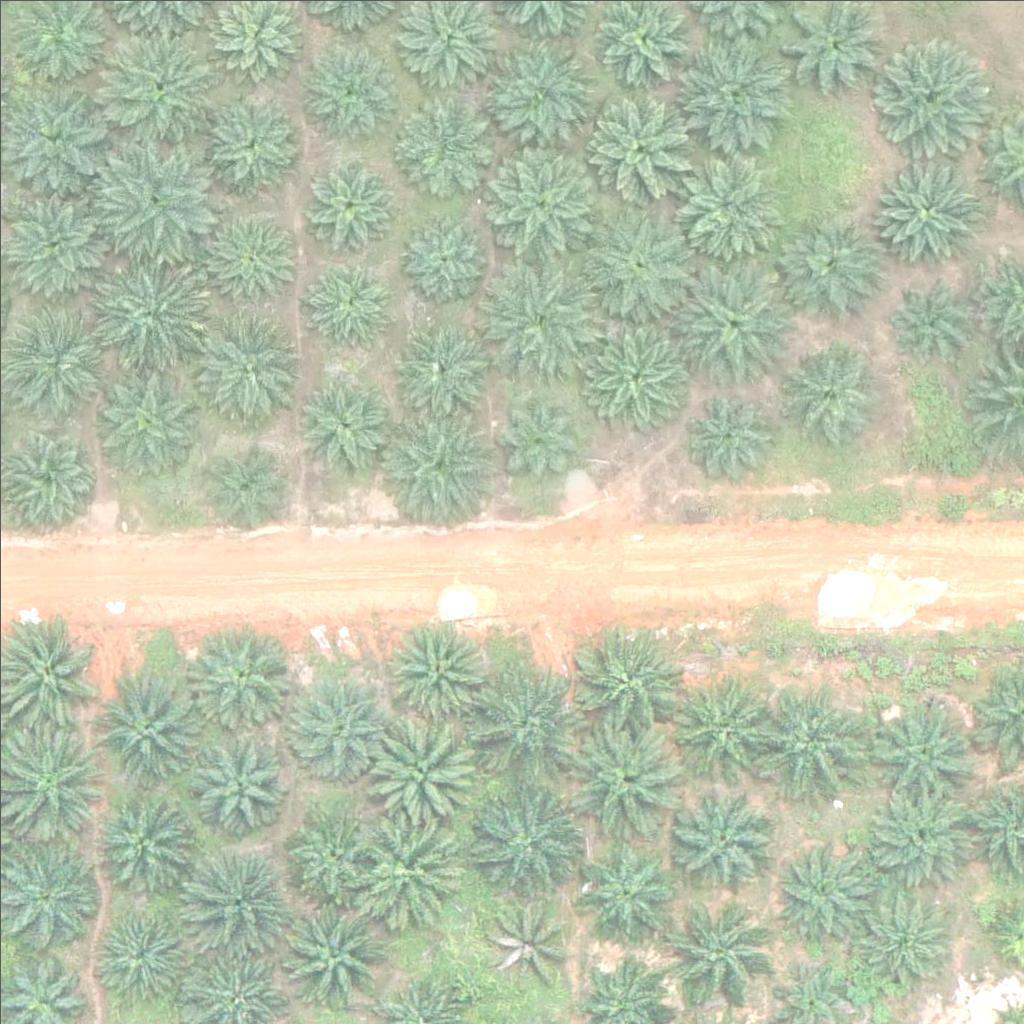Kelapa_Sawit: (481, 141, 594, 255), (877, 36, 990, 150), (180, 621, 293, 735), (93, 669, 206, 783), (481, 257, 594, 370), (583, 87, 696, 200), (583, 316, 696, 429), (669, 146, 782, 259), (99, 136, 212, 249), (104, 29, 217, 142), (198, 309, 311, 422), (181, 843, 294, 956), (569, 622, 682, 735), (864, 781, 977, 894), (867, 693, 980, 806), (482, 37, 594, 151), (585, 209, 697, 323), (94, 363, 206, 477), (382, 414, 494, 528), (658, 900, 770, 1014), (760, 683, 872, 797), (672, 267, 784, 380), (675, 31, 787, 144), (867, 151, 979, 264), (95, 249, 207, 362), (299, 31, 411, 144), (392, 84, 504, 197), (277, 899, 389, 1012), (354, 816, 466, 929), (367, 718, 479, 831), (465, 663, 577, 776), (469, 784, 581, 897), (571, 722, 683, 835), (670, 665, 782, 778), (678, 385, 778, 486), (783, 212, 883, 313), (2, 196, 102, 297), (197, 91, 297, 192), (296, 154, 396, 255), (392, 315, 492, 416), (188, 725, 288, 826), (287, 681, 387, 782), (675, 788, 775, 889), (775, 837, 875, 938), (779, 336, 879, 436), (9, 310, 109, 410), (300, 257, 400, 357), (293, 381, 393, 481), (87, 901, 187, 1001), (91, 785, 191, 885), (388, 619, 488, 719), (577, 847, 677, 947), (852, 890, 952, 990), (201, 443, 289, 531), (208, 215, 296, 303), (289, 810, 377, 898), (490, 395, 577, 483), (883, 274, 970, 362), (395, 210, 482, 298), (480, 897, 567, 985)
